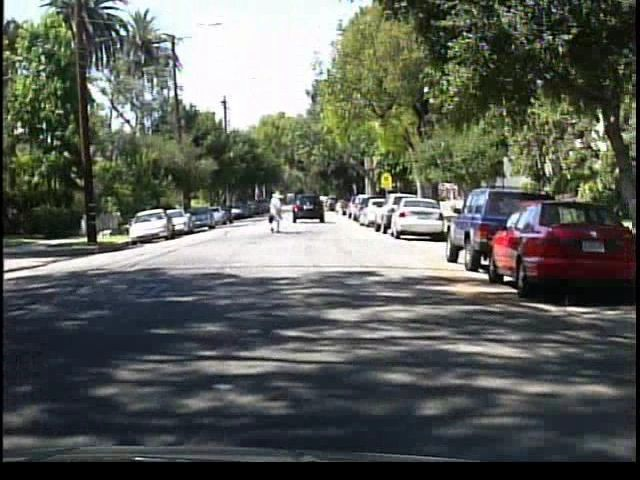person: (263, 178, 289, 226)
